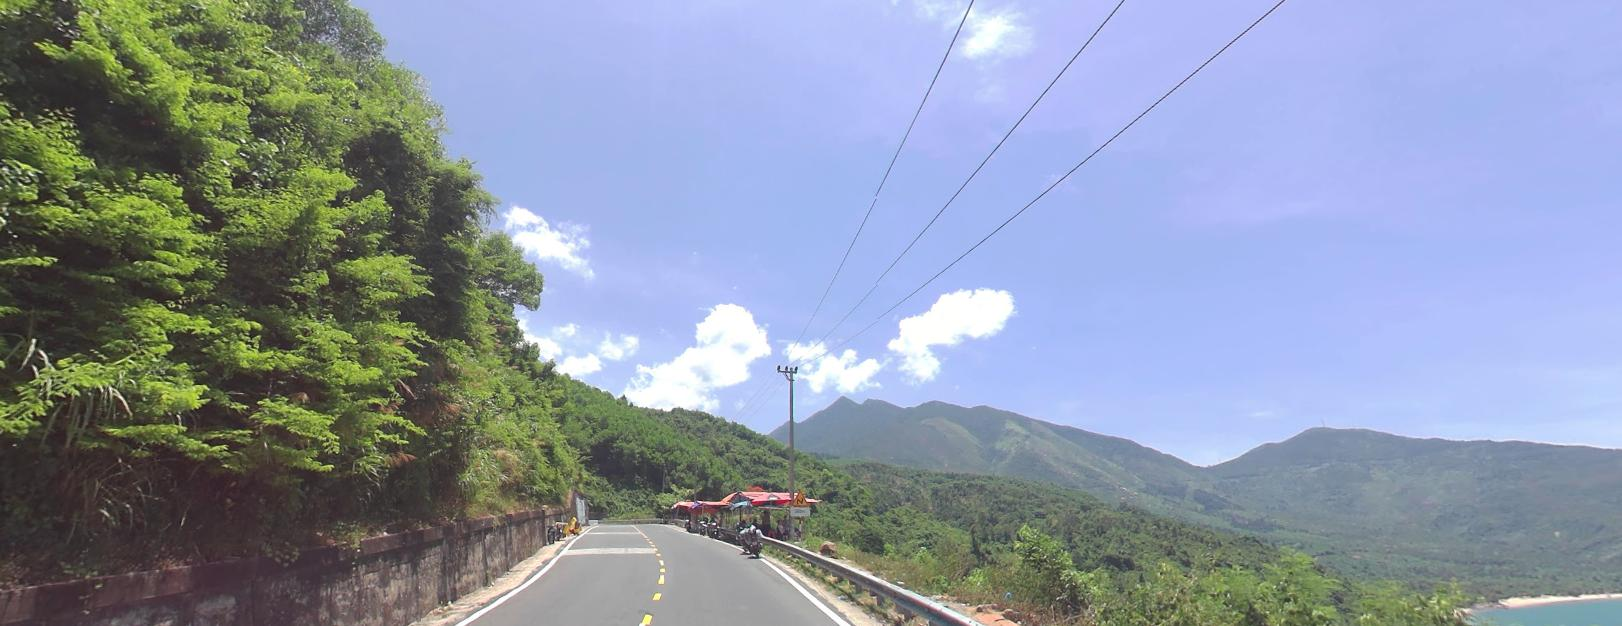Nguy hiem: (791, 487, 809, 504), (790, 490, 808, 505), (792, 490, 807, 505)
